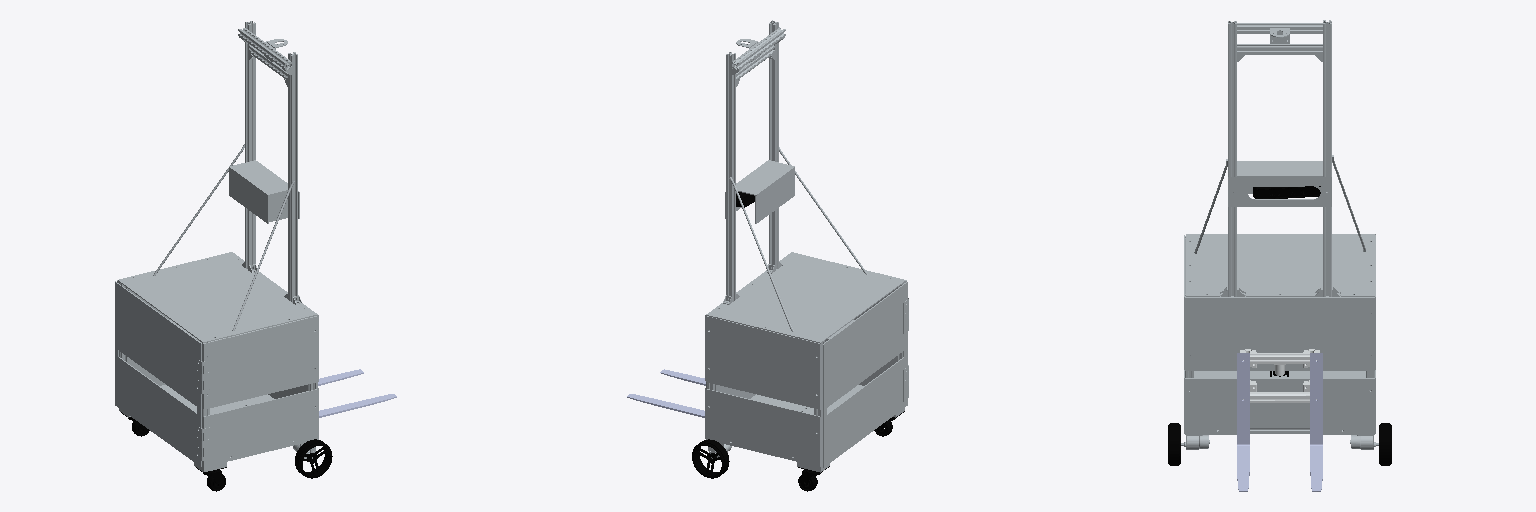
robot.urdf — amr_description:
<?xml version="1.0" encoding="utf-8"?>
<robot
  name="amr_description">
  <link
    name="base_link">
    <inertial>
      <origin
        xyz="-0.127385153741913 -0.000619147238964723 0.208636267943162"
        rpy="0 0 0" />
      <mass
        value="4.44724287415331" />
      <inertia
        ixx="0.0580885010665259"
        ixy="4.75833062526602E-05"
        ixz="-0.000140949246145443"
        iyy="0.0395816805986166"
        iyz="-6.54789263421068E-07"
        izz="0.0613619584060277" />
    </inertial>
    <visual>
      <origin
        xyz="0 0 0"
        rpy="0 0 0" />
      <geometry>
        <mesh
          filename="package://amr_description/meshes/base_link.STL" />
      </geometry>
      <material
        name="">
        <color rgba="0.75 0.78 0.80 1"/>
      </material>
    </visual>
    <collision>
      <origin
        xyz="0 0 0"
        rpy="0 0 0" />
      <geometry>
        <mesh
          filename="package://amr_description/meshes/base_link.STL" />
      </geometry>
    </collision>
  </link>
  <link
    name="front_encoder_wheel_right_link">
    <inertial>
      <origin
        xyz="1.46310852322529E-10 0.000457579400910735 1.26844312831054E-10"
        rpy="0 0 0" />
      <mass
        value="0.15255466717882" />
      <inertia
        ixx="0.000144346820338585"
        ixy="-2.52651570916629E-13"
        ixz="-3.0386875132798E-14"
        iyy="0.000269064645778525"
        iyz="-2.02932055646051E-13"
        izz="0.000144346820345777" />
    </inertial>
    <visual>
      <origin
        xyz="0 0 0"
        rpy="0 0 0" />
      <geometry>
        <mesh
          filename="package://amr_description/meshes/front_encoder_wheel_right_link.STL" />
      </geometry>
      <material
        name="">
        <color rgba="0.05 0.05 0.05 1"/>
      </material>
    </visual>
    <collision>
      <origin
        xyz="0 0 0"
        rpy="0 0 0" />
      <geometry>
        <mesh
          filename="package://amr_description/meshes/front_encoder_wheel_right_link.STL" />
      </geometry>
    </collision>
  </link>
  <joint
    name="front_encoder_wheel_right_joint"
    type="continuous">
    <origin
      xyz="0 -0.2451 -0.063003"
      rpy="0 0 0" />
    <parent
      link="base_link" />
    <child
      link="front_encoder_wheel_right_link" />
    <axis
      xyz="0 1 0" />
    <limit
      effort="0.863"
      velocity="11.52" />
    <dynamics
      damping="0.05"
      friction="0.01"/>
  </joint>
  <link
    name="front_encoder_wheel_left_link">
    <inertial>
      <origin
        xyz="1.52187010571403E-06 -0.00045757940091673 -1.93369431578105E-10"
        rpy="0 0 0" />
      <mass
        value="0.152554667178822" />
      <inertia
        ixx="0.000144346820372531"
        ixy="-4.6106552796131E-15"
        ixz="-3.90790728261847E-15"
        iyy="0.000269064645778527"
        iyz="-3.24026569174625E-13"
        izz="0.000144346820311834" />
    </inertial>
    <visual>
      <origin
        xyz="0 0 0"
        rpy="0 0 0" />
      <geometry>
        <mesh
          filename="package://amr_description/meshes/front_encoder_wheel_left_link.STL" />
      </geometry>
      <material
        name="">
        <color rgba="0.05 0.05 0.05 1"/>
      </material>
    </visual>
    <collision>
      <origin
        xyz="0 0 0"
        rpy="0 0 0" />
      <geometry>
        <mesh
          filename="package://amr_description/meshes/front_encoder_wheel_left_link.STL" />
      </geometry>
    </collision>
  </link>
  <joint
    name="front_encoder_wheel_left_joint"
    type="continuous">
    <origin
      xyz="0 0.2451 -0.063003"
      rpy="0 0 0" />
    <parent
      link="base_link" />
    <child
      link="front_encoder_wheel_left_link" />
    <axis
      xyz="0 1 0" />
    <limit
      effort="0.863"
      velocity="11.52" />
    <dynamics
      damping="0.05"
      friction="0.01"/>
  </joint>
  <link
    name="rear_caster_steer_right_link">
    <inertial>
      <origin
        xyz="0.00382120105145434 0.000103588762002893 -0.0060358302289758"
        rpy="0 0 0" />
      <mass
        value="0.01798230030437" />
      <inertia
        ixx="4.18749930767455E-06"
        ixy="-3.02757012842107E-10"
        ixz="4.84287632339121E-07"
        iyy="4.68482448041164E-06"
        iyz="1.99659757378245E-09"
        izz="6.79107504656752E-06" />
    </inertial>
    <visual>
      <origin
        xyz="0 0 0"
        rpy="0 0 0" />
      <geometry>
        <mesh
          filename="package://amr_description/meshes/rear_caster_steer_right_link.STL" />
      </geometry>
      <material
        name="">
        <color rgba="0.05 0.05 0.05 1"/>
      </material>
    </visual>
    <collision>
      <origin
        xyz="0 0 0"
        rpy="0 0 0" />
      <geometry>
        <mesh
          filename="package://amr_description/meshes/rear_caster_steer_right_link.STL" />
      </geometry>
    </collision>
  </link>
  <joint
    name="rear_caster_steer_right_joint"
    type="continuous">
    <origin
      xyz="-0.2757 -0.1931 -0.047753"
      rpy="0 0 0" />
    <parent
      link="base_link" />
    <child
      link="rear_caster_steer_right_link" />
    <axis
      xyz="0 0 1" />
  </joint>
  <link
    name="rear_caster_wheel_right_link">
    <inertial>
      <origin
        xyz="-4.77395900588817E-15 6.66133814775094E-16 4.9960036108132E-15"
        rpy="0 0 0" />
      <mass
        value="0.0294337031863833" />
      <inertia
        ixx="6.27589286634442E-06"
        ixy="-1.45402842050297E-23"
        ixz="-1.12916732115284E-21"
        iyy="1.05574890455602E-05"
        iyz="1.48295597122861E-20"
        izz="6.27589286634442E-06" />
    </inertial>
    <visual>
      <origin
        xyz="0 0 0"
        rpy="0 0 0" />
      <geometry>
        <mesh
          filename="package://amr_description/meshes/rear_caster_wheel_right_link.STL" />
      </geometry>
      <material
        name="">
        <color rgba="0.05 0.05 0.05 1"/>
      </material>
    </visual>
    <collision>
      <origin
        xyz="0 0 0"
        rpy="0 0 0" />
      <geometry>
        <mesh
          filename="package://amr_description/meshes/rear_caster_wheel_right_link.STL" />
      </geometry>
    </collision>
  </link>
  <joint
    name="rear_caster_wheel_right_joint"
    type="continuous">
    <origin
      xyz="0.017 0 -0.0405"
      rpy="0 0 0" />
    <parent
      link="rear_caster_steer_right_link" />
    <child
      link="rear_caster_wheel_right_link" />
    <axis
      xyz="0 1 0" />
    <dynamics
      damping="0.02"
      friction="0.01"/>
  </joint>
  <link
    name="rear_caster_steer_left_link">
    <inertial>
      <origin
        xyz="0.00382120116376572 0.000103589006962501 -0.00593735254793903"
        rpy="0 0 0" />
      <mass
        value="0.0179823003746604" />
      <inertia
        ixx="4.18749942191134E-06"
        ixy="-3.02742228402108E-10"
        ixz="4.84287611051037E-07"
        iyy="4.6848244807153E-06"
        iyz="1.99657581336857E-09"
        izz="6.79107518962491E-06" />
    </inertial>
    <visual>
      <origin
        xyz="0 0 0"
        rpy="0 0 0" />
      <geometry>
        <mesh
          filename="package://amr_description/meshes/rear_caster_steer_left_link.STL" />
      </geometry>
      <material
        name="">
        <color rgba="0.05 0.05 0.05 1"/>
      </material>
    </visual>
    <collision>
      <origin
        xyz="0 0 0"
        rpy="0 0 0" />
      <geometry>
        <mesh
          filename="package://amr_description/meshes/rear_caster_steer_left_link.STL" />
      </geometry>
    </collision>
  </link>
  <joint
    name="rear_caster_steer_left_joint"
    type="continuous">
    <origin
      xyz="-0.2757 0.1931 -0.047753"
      rpy="0 0 0" />
    <parent
      link="base_link" />
    <child
      link="rear_caster_steer_left_link" />
    <axis
      xyz="0 0 1" />
  </joint>
  <link
    name="rear_caster_wheel_left_link">
    <inertial>
      <origin
        xyz="-4.88498130835069E-15 -2.44249065417534E-15 9.84780718529255E-05"
        rpy="0 0 0" />
      <mass
        value="0.0294337031863833" />
      <inertia
        ixx="6.27589286634442E-06"
        ixy="-1.7771458472815E-23"
        ixz="-1.12916732115284E-21"
        iyy="1.05574890455602E-05"
        iyz="1.48521779321606E-20"
        izz="6.27589286634442E-06" />
    </inertial>
    <visual>
      <origin
        xyz="0 0 0"
        rpy="0 0 0" />
      <geometry>
        <mesh
          filename="package://amr_description/meshes/rear_caster_wheel_left_link.STL" />
      </geometry>
      <material
        name="">
        <color rgba="0.05 0.05 0.05 1"/>
      </material>
    </visual>
    <collision>
      <origin
        xyz="0 0 0"
        rpy="0 0 0" />
      <geometry>
        <mesh
          filename="package://amr_description/meshes/rear_caster_wheel_left_link.STL" />
      </geometry>
    </collision>
  </link>
  <joint
    name="rear_caster_wheel_left_joint"
    type="continuous">
    <origin
      xyz="0.017 0 -0.0405"
      rpy="0 0 0" />
    <parent
      link="rear_caster_steer_left_link" />
    <child
      link="rear_caster_wheel_left_link" />
    <axis
      xyz="0 1 0" />
    <dynamics
      damping="0.02"
      friction="0.01"/>
  </joint>
  <link
    name="imu_link">
    <inertial>
      <origin
        xyz="-0.142671731643543 -5.25256499350757E-05 -0.00149999999999995"
        rpy="0 0 0" />
      <mass
        value="0.433591677658542" />
      <inertia
        ixx="0.00663395475276422"
        ixy="-3.21713416352355E-07"
        ixz="4.52071244798094E-21"
        iyy="0.00397002543889303"
        iyz="-4.12155659229942E-17"
        izz="0.0106033298041408" />
    </inertial>
    <visual>
      <origin
        xyz="0 0 0"
        rpy="0 0 0" />
      <geometry>
        <mesh
          filename="package://amr_description/meshes/imu_link.STL" />
      </geometry>
      <material
        name="">
        <color rgba="0.792156862745098 0.819607843137255 0.933333333333333 1" />
      </material>
    </visual>
    <collision>
      <origin
        xyz="0 0 0"
        rpy="0 0 0" />
      <geometry>
        <mesh
          filename="package://amr_description/meshes/imu_link.STL" />
      </geometry>
    </collision>
  </link>
  <joint
    name="imu_joint"
    type="fixed">
    <origin
      xyz="0 0 0"
      rpy="0 0 0" />
    <parent
      link="base_link" />
    <child
      link="imu_link" />
    <axis
      xyz="0 0 0" />
  </joint>
  <link
    name="camera_link">
    <inertial>
      <origin
        xyz="-0.0192480956479566 -9.81672015742951E-06 -6.24371804174295E-05"
        rpy="0 0 0" />
      <mass
        value="0.183480710290439" />
      <inertia
        ixx="0.000397638008280792"
        ixy="3.36943171969012E-08"
        ixz="2.72026743740438E-07"
        iyy="3.70982336711151E-05"
        iyz="1.12651705949238E-10"
        izz="0.000407441878851077" />
    </inertial>
    <visual>
      <origin
        xyz="0 0 0"
        rpy="0 0 0" />
      <geometry>
        <mesh
          filename="package://amr_description/meshes/camera_link.STL" />
      </geometry>
      <material
        name="">
        <color rgba="0.05 0.05 0.05 1"/>
      </material>
    </visual>
    <collision>
      <origin
        xyz="0 0 0"
        rpy="0 0 0" />
      <geometry>
        <mesh
          filename="package://amr_description/meshes/camera_link.STL" />
      </geometry>
    </collision>
  </link>
  <joint
    name="camera_joint"
    type="fixed">
    <origin
      xyz="0.027498 0.019688 0.59519"
      rpy="0.07 0.122 0" />
    <parent
      link="base_link" />
    <child
      link="camera_link" />
    <axis
      xyz="0 0 0" />
  </joint>
  <link
    name="lidar_link">
    <inertial>
      <origin
        xyz="0.00512745596438591 0.000556520497701163 -0.00905078478701771"
        rpy="0 0 0" />
      <mass
        value="0.141654473640087" />
      <inertia
        ixx="5.69097097753613E-05"
        ixy="-2.87900344418044E-07"
        ixz="1.24753616532653E-05"
        iyy="8.93215448552514E-05"
        iyz="-7.2185720802613E-07"
        izz="0.000108702097721124" />
    </inertial>
    <visual>
      <origin
        xyz="0 0 0"
        rpy="0 0 0" />
      <geometry>
        <mesh
          filename="package://amr_description/meshes/lidar_link.STL" />
      </geometry>
      <material
        name="">
        <color rgba="0.05 0.05 0.05 1"/>
      </material>
    </visual>
    <collision>
      <origin
        xyz="0 0 0"
        rpy="0 0 0" />
      <geometry>
        <mesh
          filename="package://amr_description/meshes/lidar_link.STL" />
      </geometry>
    </collision>
  </link>
  <joint
    name="lidar_joint"
    type="fixed">
    <origin
      xyz="-0.098654 -0.00075265 0.12981"
      rpy="0 0 0" />
    <parent
      link="base_link" />
    <child
      link="lidar_link" />
    <axis
      xyz="0 0 0" />
  </joint>
  <link
    name="base_lift_link">
    <inertial>
      <origin
        xyz="-0.00320921224590953 -0.000196674673768715 0.503368494755631"
        rpy="0 0 0" />
      <mass
        value="0.320044401707293" />
      <inertia
        ixx="0.0178623844045012"
        ixy="-4.59335727601987E-11"
        ixz="1.72798073418492E-07"
        iyy="0.0178563359559152"
        iyz="1.30112057513382E-08"
        izz="3.15452965985148E-05" />
    </inertial>
    <visual>
      <origin
        xyz="0 0 0"
        rpy="0 0 0" />
      <geometry>
        <mesh
          filename="package://amr_description/meshes/base_lift_link.STL" />
      </geometry>
      <material
        name="">
        <color rgba="0.792156862745098 0.819607843137255 0.933333333333333 1" />
      </material>
    </visual>
    <collision>
      <origin
        xyz="0 0 0"
        rpy="0 0 0" />
      <geometry>
        <mesh
          filename="package://amr_description/meshes/base_lift_link.STL" />
      </geometry>
    </collision>
  </link>
  <joint
    name="base_lift_joint"
    type="fixed">
    <origin
      xyz="0.0495 0.00019696 0.017997"
      rpy="0 0 0" />
    <parent
      link="base_link" />
    <child
      link="base_lift_link" />
    <axis
      xyz="0 0 0" />
  </joint>
  <link
    name="encoder_lift_link">
    <inertial>
      <origin
        xyz="0.00336424687340398 -0.000198748258606329 0.12362211528836"
        rpy="0 0 0" />
      <mass
        value="0.357360840342875" />
      <inertia
        ixx="0.000279600646971789"
        ixy="-7.63669360244925E-08"
        ixz="7.79788582324392E-09"
        iyy="4.96986291894177E-05"
        iyz="-3.24165845280034E-10"
        izz="0.00026477119016549" />
    </inertial>
    <visual>
      <origin
        xyz="0 0 0"
        rpy="0 0 0" />
      <geometry>
        <mesh
          filename="package://amr_description/meshes/encoder_lift_link.STL" />
      </geometry>
      <material
        name="">
        <color rgba="0.898039215686275 0.917647058823529 0.929411764705882 1" />
      </material>
    </visual>
    <collision>
      <origin
        xyz="0 0 0"
        rpy="0 0 0" />
      <geometry>
        <mesh
          filename="package://amr_description/meshes/encoder_lift_link.STL" />
      </geometry>
    </collision>
  </link>
  <joint
    name="encoder_lift_joint"
    type="prismatic">
    <origin
      xyz="0 0 0"
      rpy="0 0 0" />
    <parent
      link="base_lift_link" />
    <child
      link="encoder_lift_link" />
    <axis
      xyz="0 0 1" />
    <limit
      lower="0.0"
      upper="0.8"
      effort="100"
      velocity="0.2" />
    <dynamics damping="20.0" friction="2.0"/>
  </joint>
  <link
    name="left_fork_link">
    <inertial>
      <origin
        xyz="-0.0398432264718587 -0.00131749864395658 0.0592700335759896"
        rpy="0 0 0" />
      <mass
        value="0.0680583578976647" />
      <inertia
        ixx="0.000408994704575731"
        ixy="-3.23409451669967E-08"
        ixz="0.000226392572307748"
        iyy="0.000774064219550298"
        iyz="-2.94516310832124E-08"
        izz="0.000374949009150345" />
    </inertial>
    <visual>
      <origin
        xyz="0 0 0"
        rpy="0 0 0" />
      <geometry>
        <mesh
          filename="package://amr_description/meshes/left_fork_link.STL" />
      </geometry>
      <material
        name="">
        <color rgba="0.792156862745098 0.819607843137255 0.933333333333333 1" />
      </material>
    </visual>
    <collision>
      <origin
        xyz="0 0 0"
        rpy="0 0 0" />
      <geometry>
        <mesh
          filename="package://amr_description/meshes/left_fork_link.STL" />
      </geometry>
    </collision>
  </link>
  <joint
    name="left_fork_joint"
    type="fixed">
    <origin
      xyz="0.1275 0.086108 -0.042399"
      rpy="0 0 0" />
    <parent
      link="encoder_lift_link" />
    <child
      link="left_fork_link" />
    <axis
      xyz="0 0 0" />
  </joint>
  <link
    name="right_fork_link">
    <inertial>
      <origin
        xyz="-0.0398432264718667 0.000133796292863586 0.0592700335759977"
        rpy="0 0 0" />
      <mass
        value="0.0680583578976465" />
      <inertia
        ixx="0.000408994704575702"
        ixy="-3.23409451766401E-08"
        ixz="0.000226392572307717"
        iyy="0.000774064219550175"
        iyz="-2.94516310767951E-08"
        izz="0.000374949009150247" />
    </inertial>
    <visual>
      <origin
        xyz="0 0 0"
        rpy="0 0 0" />
      <geometry>
        <mesh
          filename="package://amr_description/meshes/right_fork_link.STL" />
      </geometry>
      <material
        name="">
        <color rgba="0.792156862745098 0.819607843137255 0.933333333333333 1" />
      </material>
    </visual>
    <collision>
      <origin
        xyz="0 0 0"
        rpy="0 0 0" />
      <geometry>
        <mesh
          filename="package://amr_description/meshes/right_fork_link.STL" />
      </geometry>
    </collision>
  </link>
  <joint
    name="right_fork_joint"
    type="fixed">
    <origin
      xyz="0.1275 -0.085344 -0.042399"
      rpy="0 0 0" />
    <parent
      link="encoder_lift_link" />
    <child
      link="right_fork_link" />
    <axis
      xyz="0 0 0" />
  </joint>
</robot>

--- Render facts (derived) ---
Views: 3 orthographic renders of the robot side by side, from view 1: azimuth 30°, elevation 25°; view 2: azimuth 150°, elevation 25°; view 3: azimuth 270°, elevation 25°.
Robot: amr_description — 14 links, 13 joints (6 continuous, 1 prismatic, 6 fixed); root link base_link; default pose: all joints at 0.
Visible links, largest first — view 1: base_link, front_encoder_wheel_right_link, right_fork_link; view 2: base_link, front_encoder_wheel_left_link, left_fork_link; view 3: base_link, left_fork_link, right_fork_link, encoder_lift_link, camera_link, front_encoder_wheel_right_link, front_encoder_wheel_left_link.
Boxes of the visible links, <box> form: base_link: <box>115,21,318,471</box>; front_encoder_wheel_right_link: <box>295,439,332,478</box>; right_fork_link: <box>319,394,396,417</box>; base_link: <box>705,20,908,472</box>; front_encoder_wheel_left_link: <box>692,439,729,478</box>; left_fork_link: <box>627,394,704,417</box>; base_link: <box>1181,20,1378,449</box>; left_fork_link: <box>1310,353,1322,491</box>; right_fork_link: <box>1237,353,1249,491</box>; encoder_lift_link: <box>1240,349,1319,402</box>; camera_link: <box>1253,186,1320,198</box>; front_encoder_wheel_right_link: <box>1168,423,1180,465</box>; front_encoder_wheel_left_link: <box>1379,423,1391,465</box>.
Size in the robot's own frame: 0.6571 by 0.5202 by 1.14 metres.
13 mesh visuals loaded from 14 distinct referenced files (13 binary STL); not drawn: 1 (reference not matched to a file when rendering).
